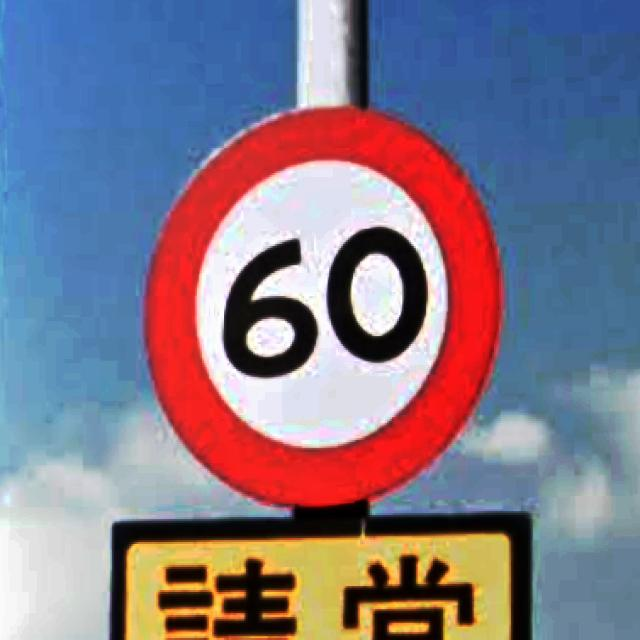max60: (141, 100, 504, 509)
